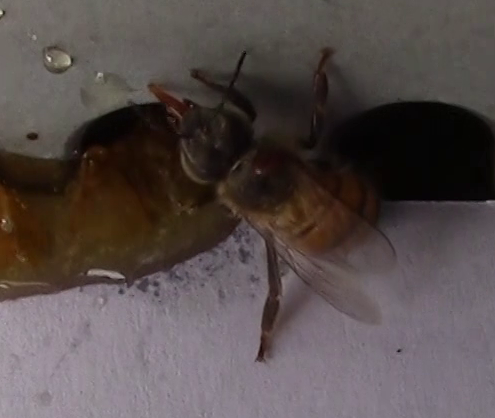Varroa destructor: (249, 144, 288, 177)
